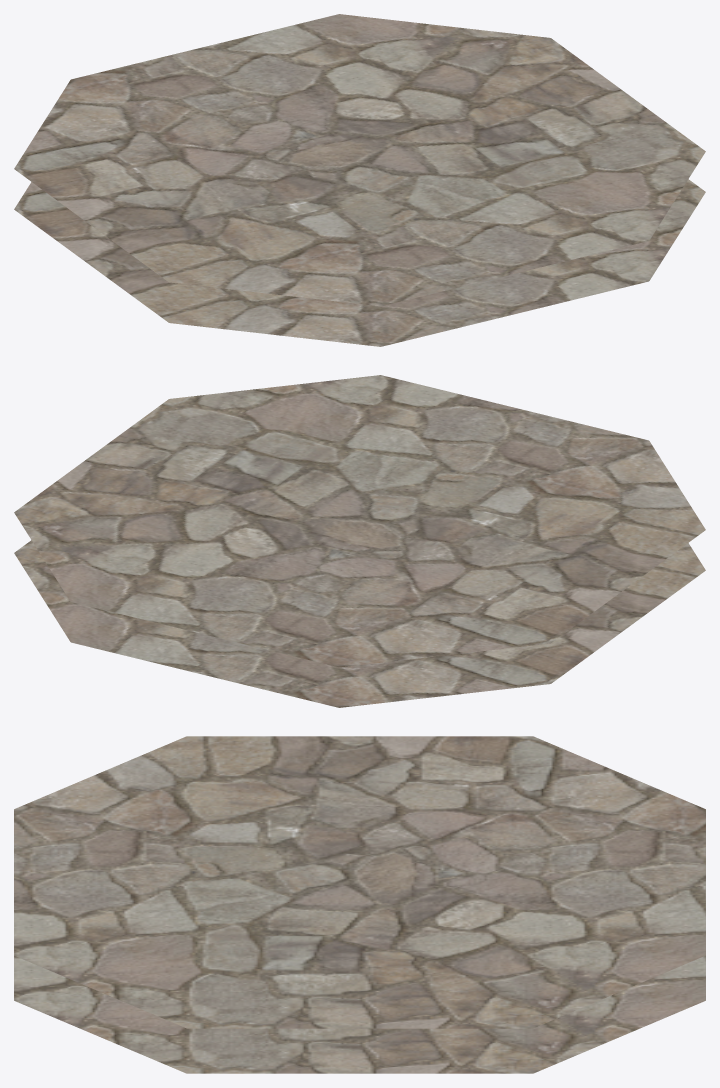
File: towerblock_floor_3.glb
3 views of the same model, one above another, from view 1: azimuth 30°, elevation 25°; view 2: azimuth 150°, elevation 25°; view 3: azimuth 270°, elevation 25° (orthographic). The views are drawn at different scales.
Parts seen in each view (by area): view 1: towerblock_floor_3; view 2: towerblock_floor_3; view 3: towerblock_floor_3.
Part boxes in pixels (box(x1,y1,x2,y2)): towerblock_floor_3: box(14, 14, 705, 346); towerblock_floor_3: box(14, 375, 705, 707); towerblock_floor_3: box(14, 736, 705, 1073).
Bounding box in the file's own units: 8 × 0.5766 × 8.
1 material, 1 textured.
